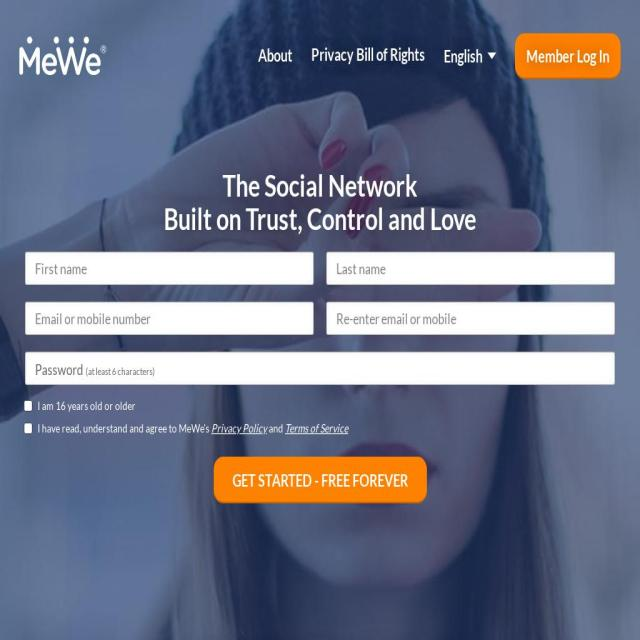button: (515, 33, 621, 79), (19, 37, 107, 75), (311, 44, 426, 64), (444, 39, 497, 73)
field: (25, 352, 615, 385), (213, 457, 427, 503), (25, 252, 314, 285), (326, 252, 615, 285), (25, 302, 314, 335), (326, 302, 615, 335)
heading: (222, 168, 418, 640), (164, 200, 476, 237)
image: (19, 37, 107, 75)
label: (25, 398, 136, 412)
link: (285, 421, 348, 435), (211, 421, 267, 435), (258, 45, 293, 65)
text: (38, 421, 212, 435), (444, 39, 483, 73), (86, 364, 155, 379), (174, 636, 360, 640), (35, 362, 83, 376), (360, 636, 466, 640), (267, 421, 285, 435)
